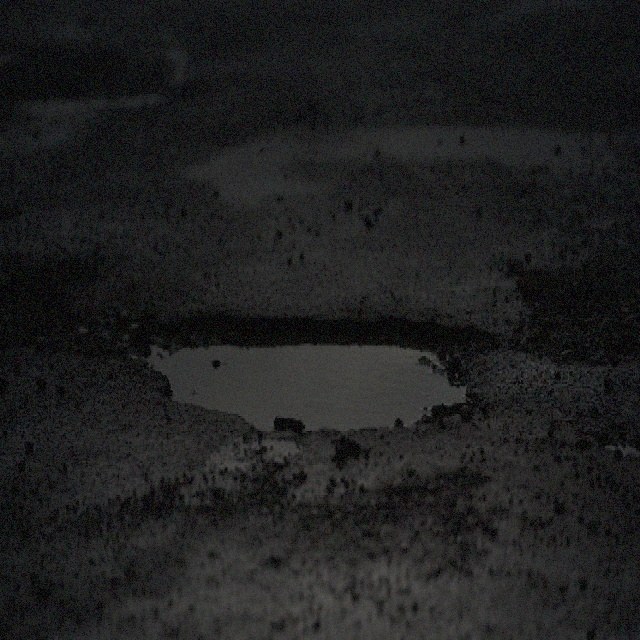pothole: (127, 305, 483, 435)
